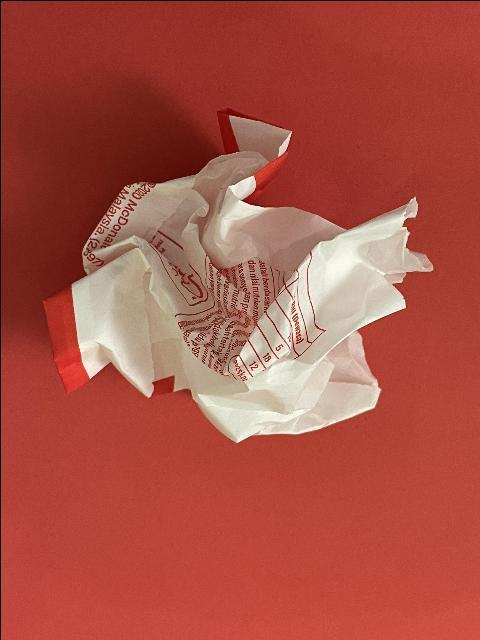paperbag: (39, 106, 435, 447)
